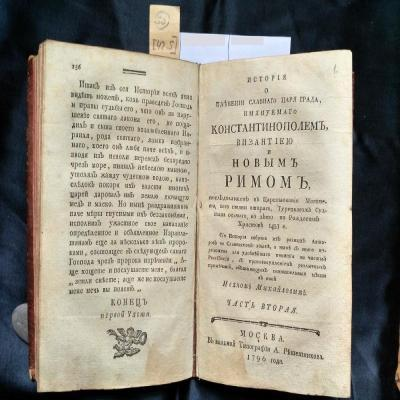rare_books: (33, 41, 353, 399)
